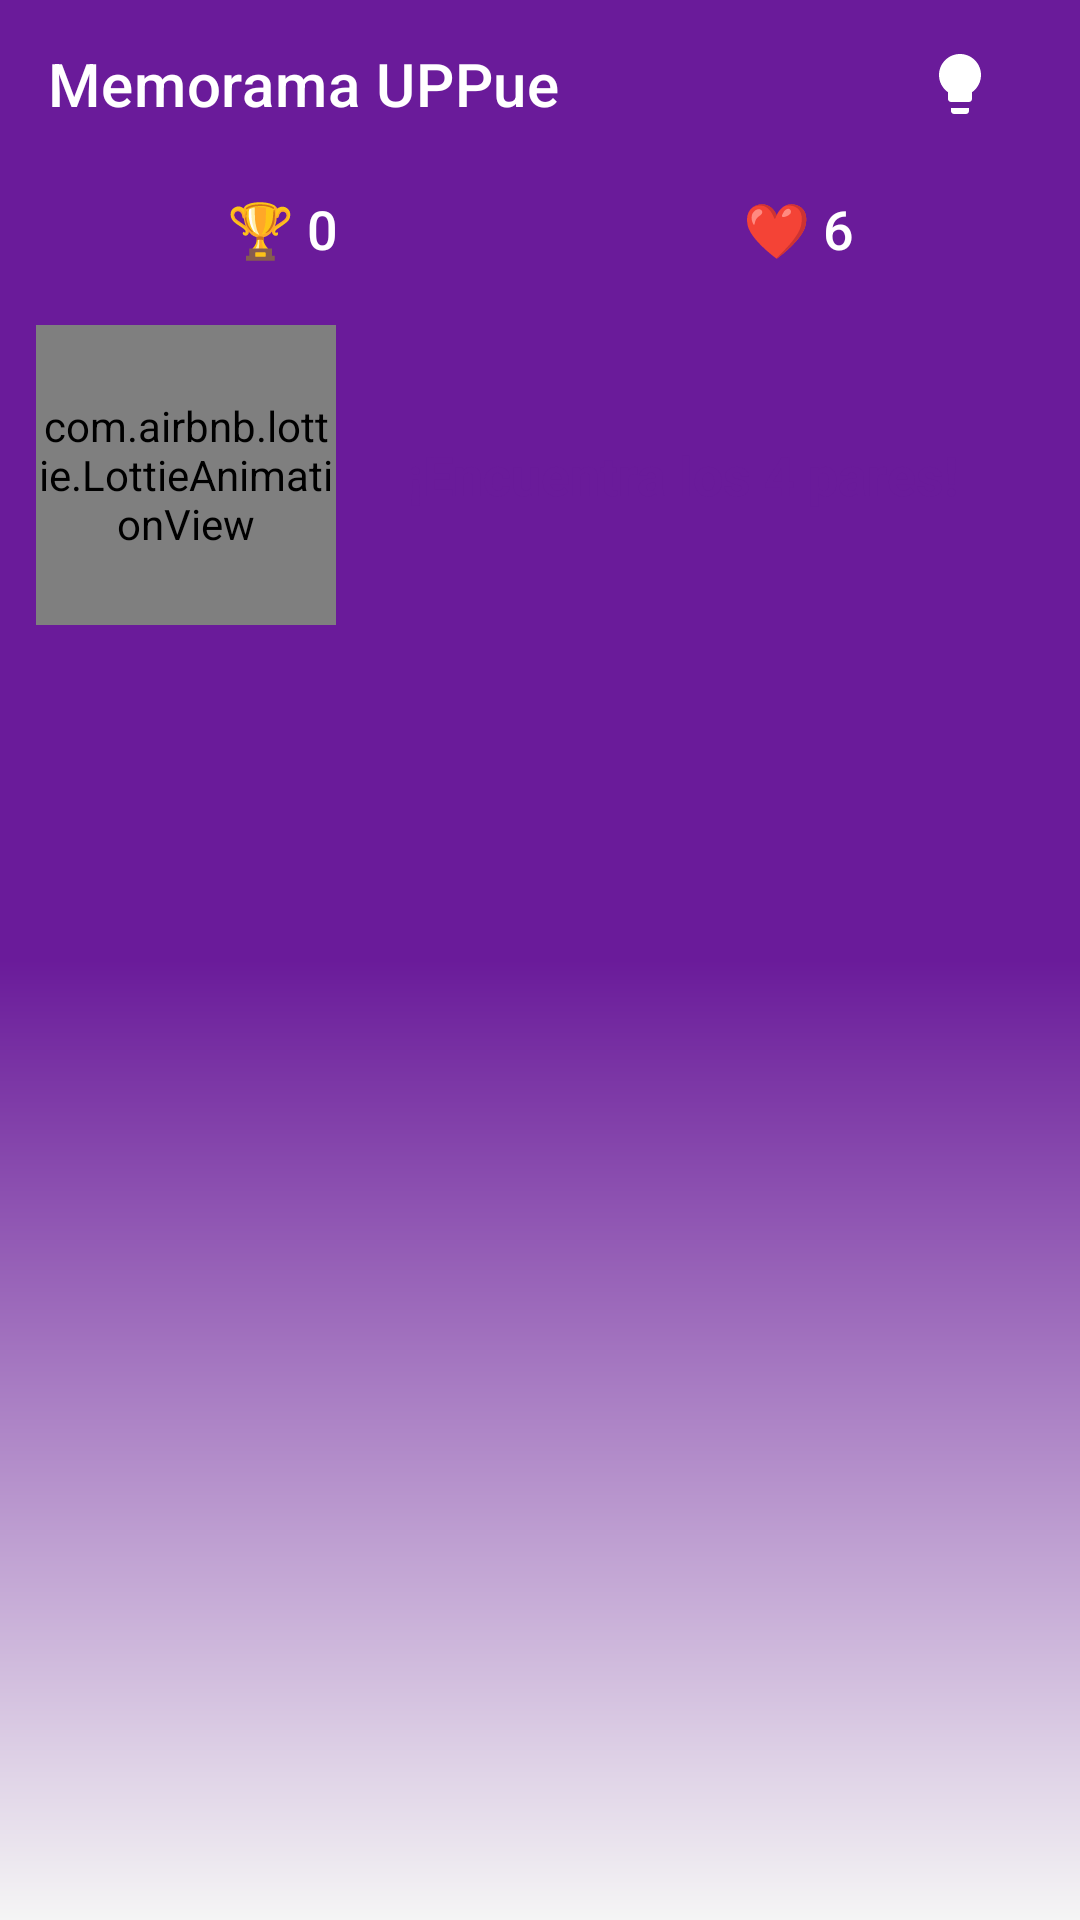

Named icons in this screenshot (1080 × 1920) and their bounding boxes, (x1, y1, x2, y2):
foco: (939, 54, 981, 114)
